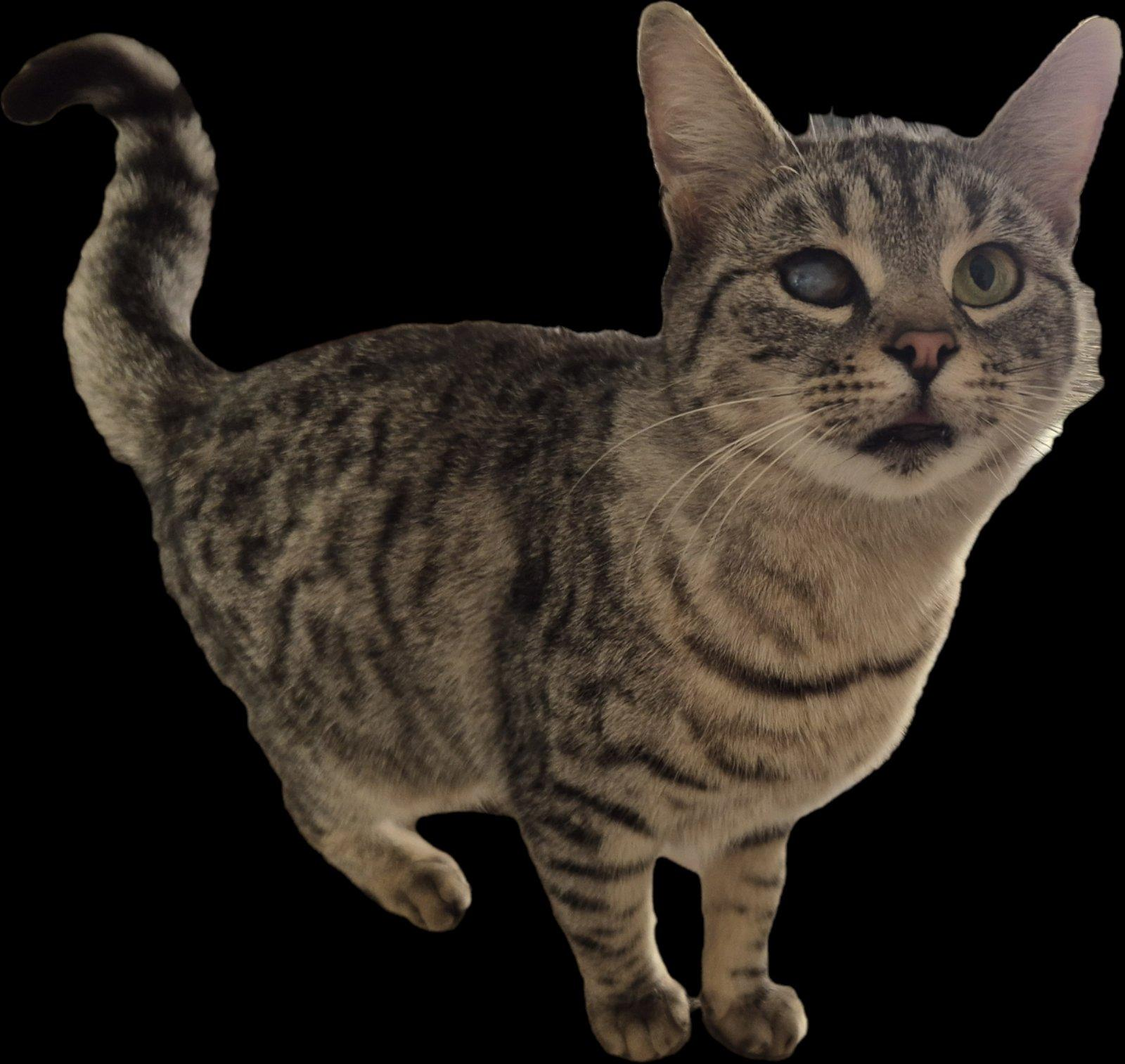macka: (0, 4, 1120, 1052)
